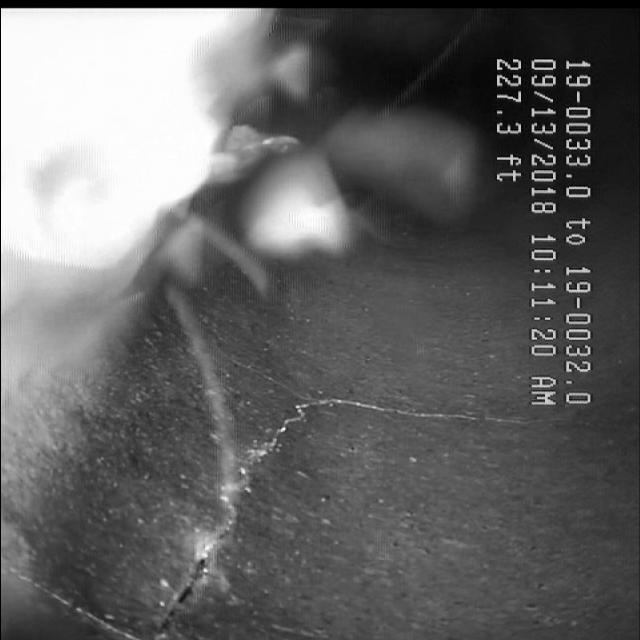Crack: (148, 389, 332, 625), (352, 396, 502, 436)
